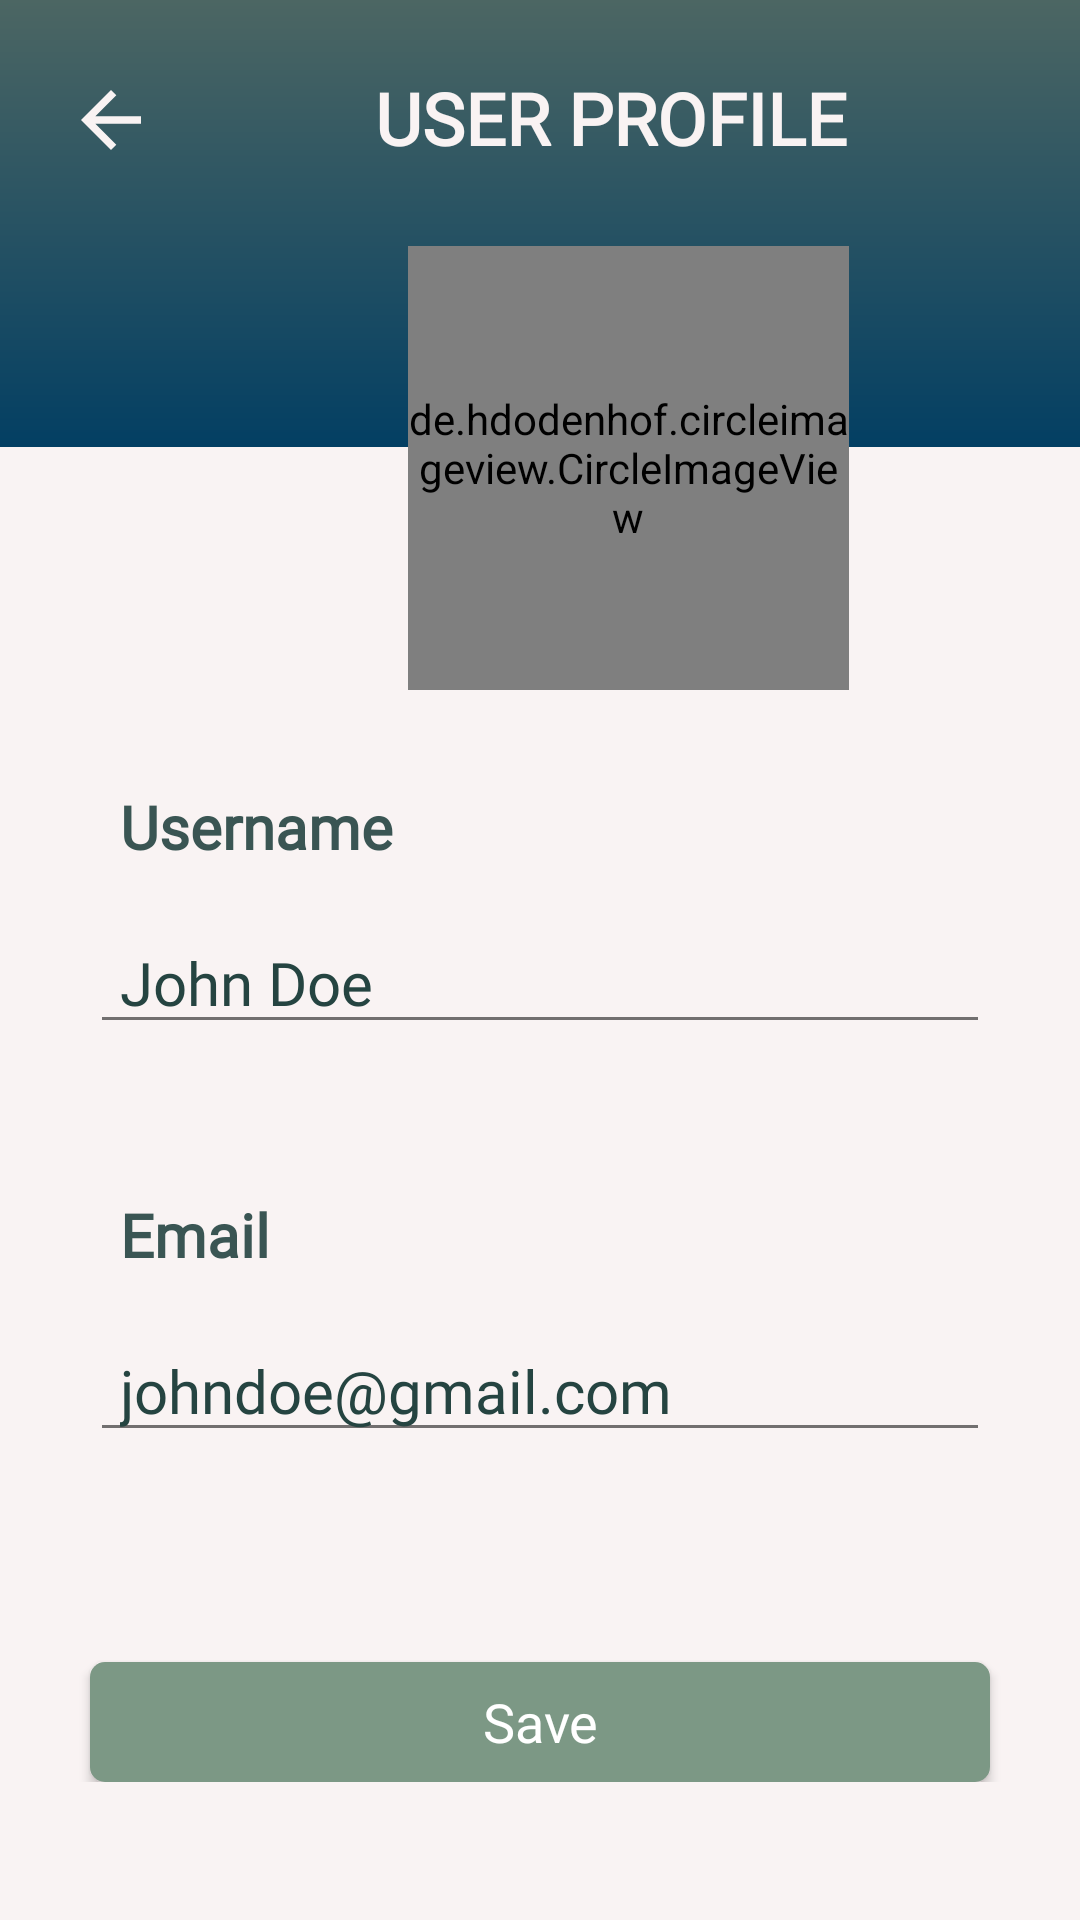

Where icons sit on this 1080px x 1920px app screen, as (x1, y1, x2, y2):
arrowback: (81, 90, 141, 150)
